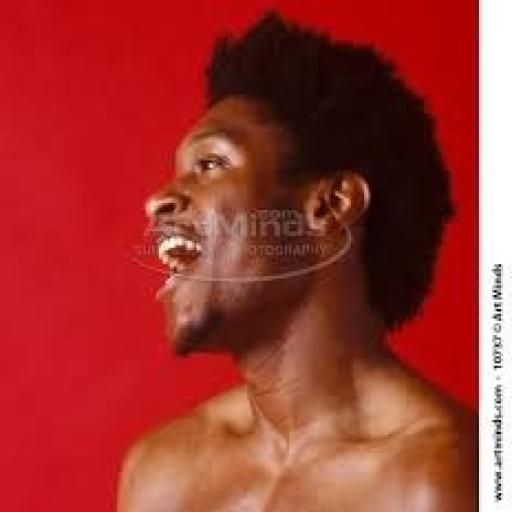laughing: (90, 10, 474, 510)
